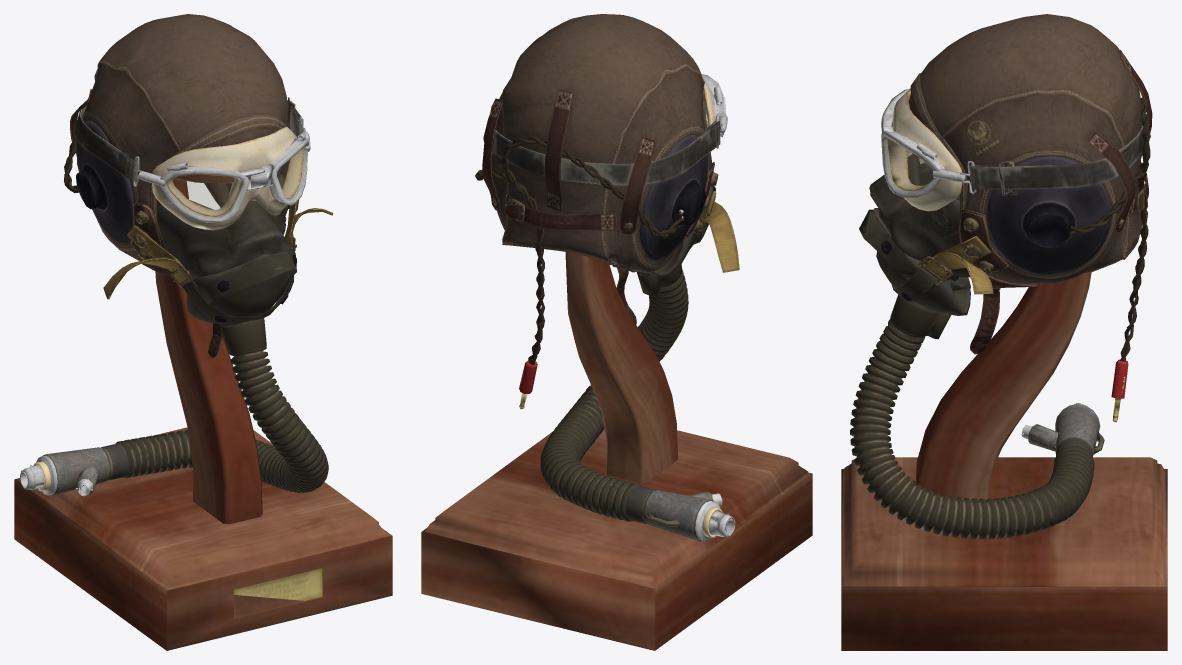
Rendered from khronos-flight-helmet.glb.
3 renders of one model, left to right at view 1: azimuth 30°, elevation 25°; view 2: azimuth 150°, elevation 25°; view 3: azimuth 270°, elevation 25°, orthographic. The views are drawn at different scales.
Visible parts, largest first — view 1: RubberWood_low, LeatherParts_low, MetalParts_low, GlassPlastic_low, Hose_low, Lenses_low; view 2: RubberWood_low, LeatherParts_low, Hose_low, MetalParts_low, GlassPlastic_low; view 3: RubberWood_low, LeatherParts_low, Hose_low, GlassPlastic_low, MetalParts_low, Lenses_low.
Part boxes in pixels (x1,y1,x2,y2): RubberWood_low: (14,100,392,650); LeatherParts_low: (70,14,290,358); MetalParts_low: (20,97,322,600); GlassPlastic_low: (76,120,304,244); Hose_low: (115,347,328,492); Lenses_low: (165,144,307,218); RubberWood_low: (421,114,812,650); LeatherParts_low: (482,14,714,324); Hose_low: (540,270,688,521); MetalParts_low: (492,74,735,541); GlassPlastic_low: (490,76,715,260); RubberWood_low: (841,97,1167,650); LeatherParts_low: (908,14,1152,354); Hose_low: (850,318,1094,539); GlassPlastic_low: (887,88,1111,275); MetalParts_low: (881,88,1145,456); Lenses_low: (883,137,933,192).
Size of the model in its own units: 0.3665 by 0.716 by 0.3716.
Materials: 6 (6 with a texture image).
